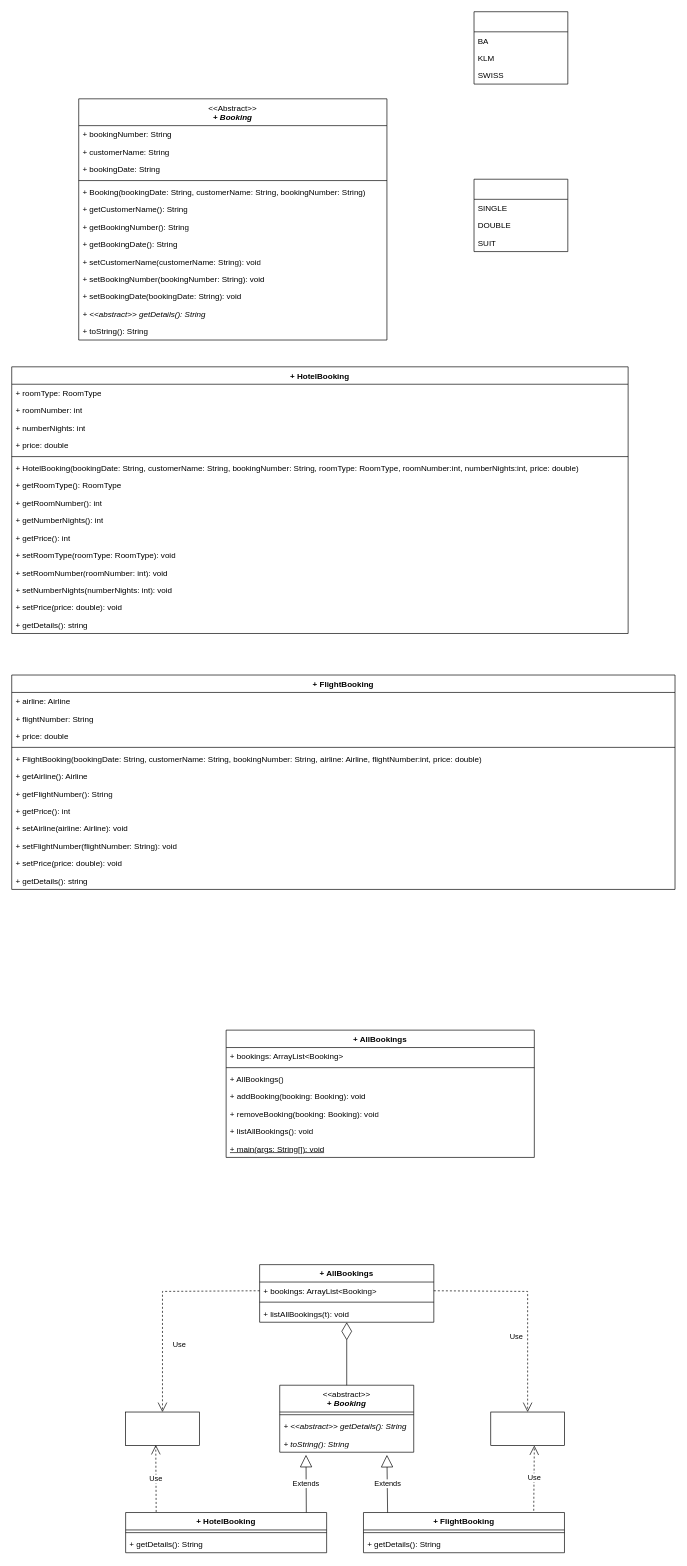
Image size: 687x1566. Some labels were removed from this diagram. The box of each missing label's shape, as (x1, y1, x2, y2) in pixels:
<<Enumeration>> Airline: (473, 11, 568, 84)
<<Enumeration>> RoomType: (473, 179, 568, 252)
«enumeration» Airline: (490, 1411, 564, 1446)
«enumeration» RoomType: (125, 1411, 199, 1446)
